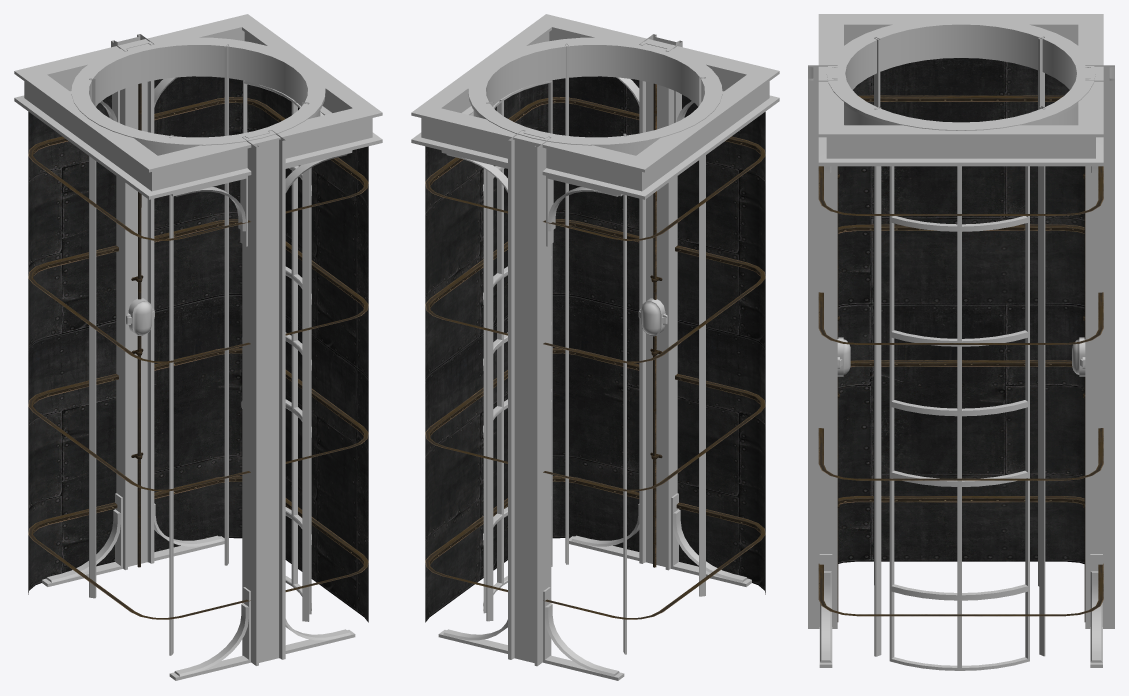
File: elevator_shaft_8m.dae
3 renders of one model, left to right at view 1: azimuth 30°, elevation 25°; view 2: azimuth 150°, elevation 25°; view 3: azimuth 270°, elevation 25°, orthographic. The views are drawn at different scales.
Visible parts, largest first — view 1: polySurface276, elevator_8m_module_metal1, polySurface283, polySurface292, polySurface291; view 2: polySurface276, elevator_8m_module_metal1, polySurface283, polySurface292, polySurface291; view 3: polySurface276, elevator_8m_module_metal1, polySurface283, polySurface292, polySurface291.
Boxes of the visible parts, left/top/right/bottom form: polySurface276: left=28, top=76, right=368, bottom=622; elevator_8m_module_metal1: left=14, top=14, right=382, bottom=680; polySurface283: left=28, top=97, right=368, bottom=619; polySurface292: left=131, top=83, right=143, bottom=567; polySurface291: left=126, top=298, right=242, bottom=408; polySurface276: left=425, top=76, right=765, bottom=622; elevator_8m_module_metal1: left=411, top=14, right=779, bottom=680; polySurface283: left=425, top=97, right=765, bottom=619; polySurface292: left=650, top=83, right=662, bottom=567; polySurface291: left=551, top=298, right=667, bottom=408; polySurface276: left=838, top=58, right=1084, bottom=563; elevator_8m_module_metal1: left=808, top=14, right=1114, bottom=670; polySurface283: left=818, top=95, right=1103, bottom=616; polySurface292: left=837, top=166, right=1085, bottom=621; polySurface291: left=837, top=337, right=1085, bottom=376.
Size of the model in its own units: 400 by 850 by 431.
